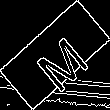M_NW: (23, 21, 87, 89)
